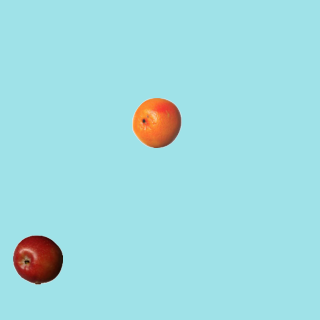Apple Braeburn: (12, 234, 62, 284)
Grapefruit Pink: (131, 97, 181, 147)
